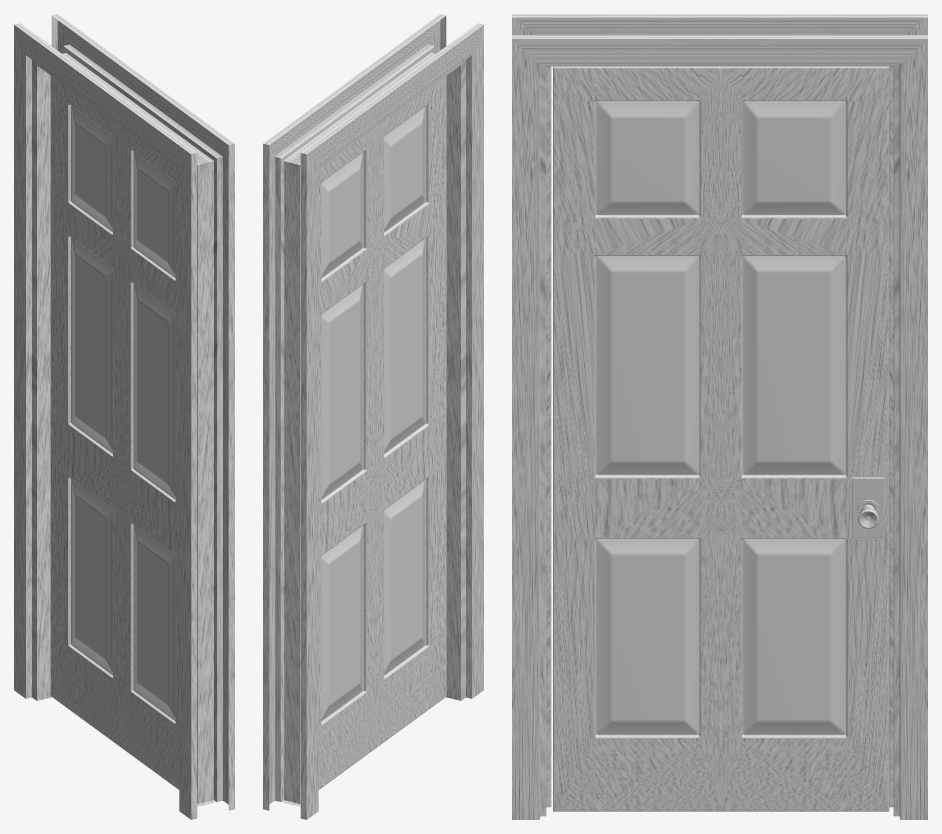
Rendered from puerta.obj.
3 renders of one model, left to right at view 1: azimuth 30°, elevation 25°; view 2: azimuth 150°, elevation 25°; view 3: azimuth 270°, elevation 25°, orthographic. The views are drawn at different scales.
Visible parts, largest first — view 1: basic_door_polySurface74_basic_door_polySurface1, basic_door_pCube3_basic_door_polySurface1; view 2: basic_door_polySurface74_basic_door_polySurface1, basic_door_pCube3_basic_door_polySurface1; view 3: basic_door_polySurface74_basic_door_polySurface1, basic_door_pCube3_basic_door_polySurface1, basic_door_intdoor_dxf_001_basic_door_polySurface62_basic_door_p.
Part boxes in pixels (box(x1,y1,x2,y2)): basic_door_polySurface74_basic_door_polySurface1: box(50, 75, 179, 789); basic_door_pCube3_basic_door_polySurface1: box(14, 14, 234, 819); basic_door_polySurface74_basic_door_polySurface1: box(318, 76, 446, 789); basic_door_pCube3_basic_door_polySurface1: box(263, 14, 483, 819); basic_door_polySurface74_basic_door_polySurface1: box(553, 66, 889, 811); basic_door_pCube3_basic_door_polySurface1: box(512, 14, 927, 819); basic_door_intdoor_dxf_001_basic_door_polySurface62_basic_door_p: box(852, 477, 884, 537).
Size of the model in its own units: 2.46 by 30.19 by 14.57.
1 material, 1 textured.
